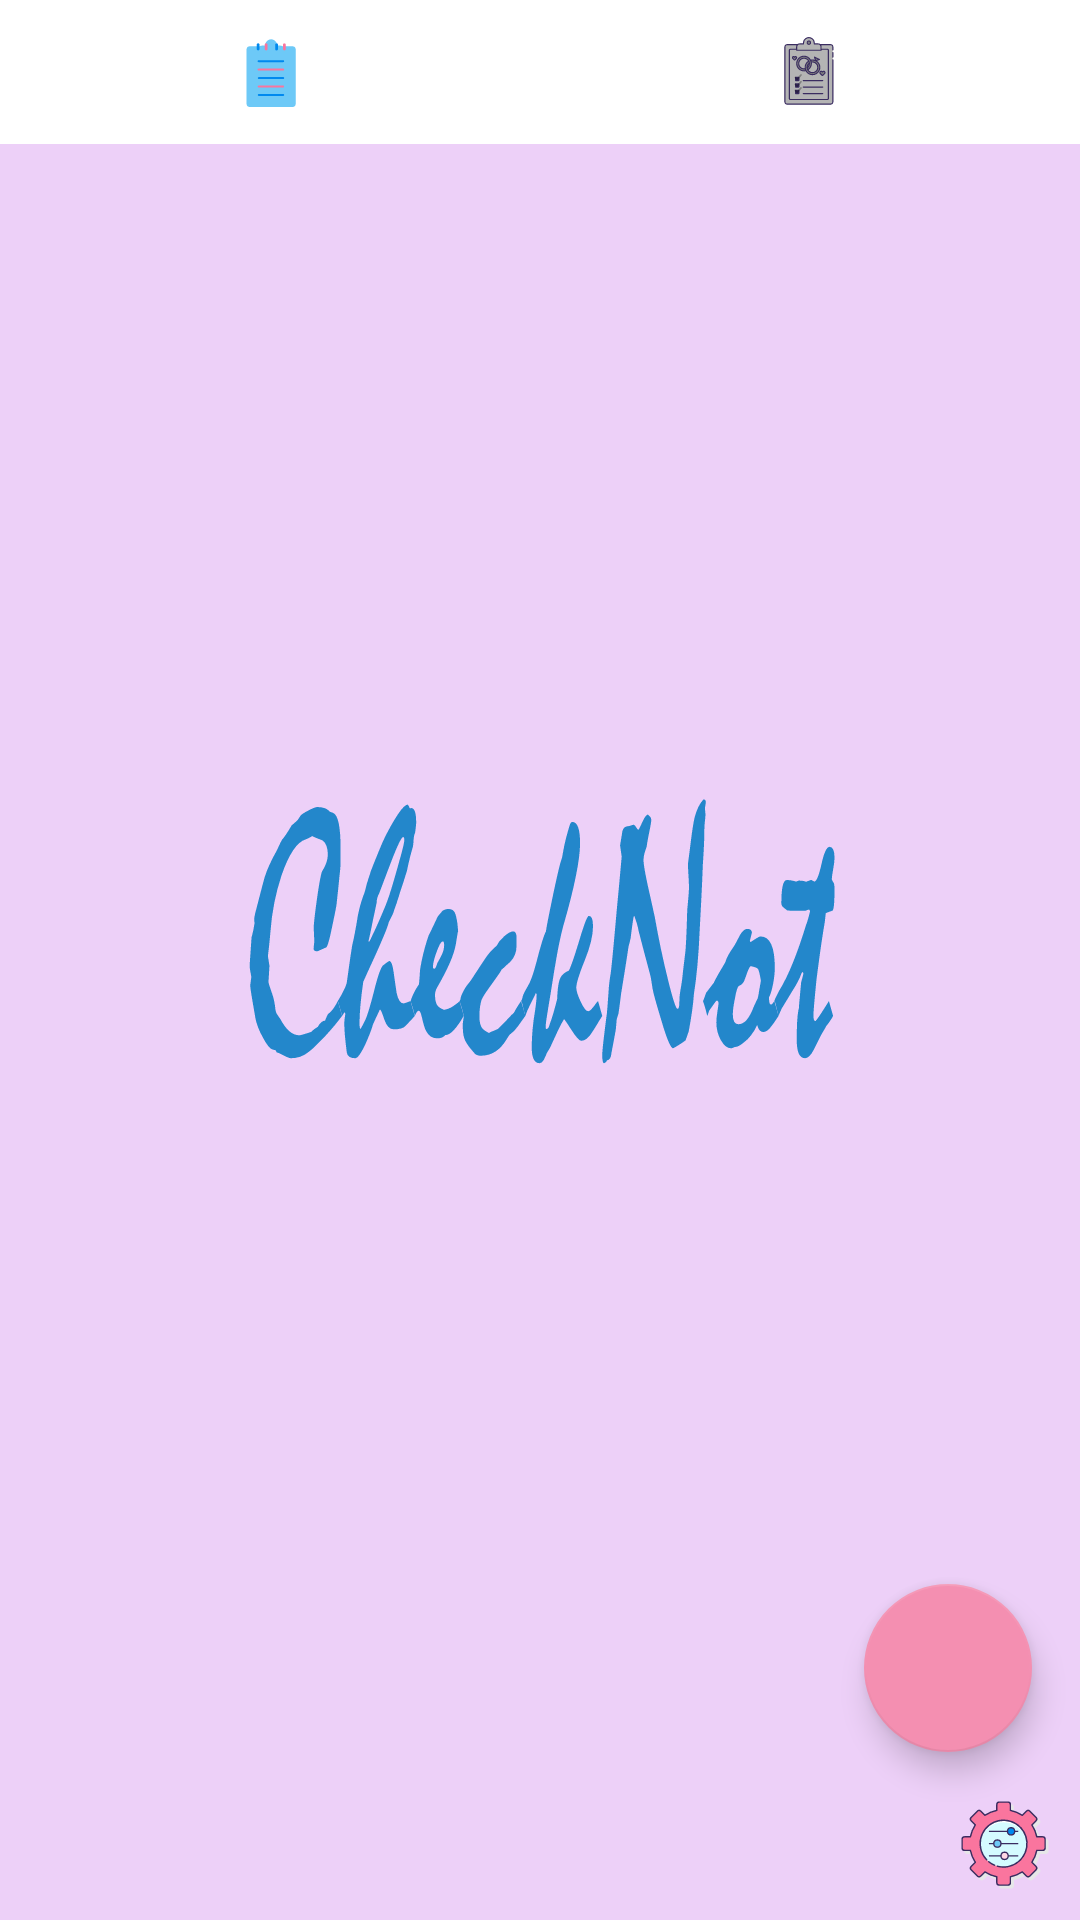

Where icons sit on this 1080*1920 app screen, as (x1, y1, x2, y2):
Settings Icon: (961, 1801, 1046, 1886)
